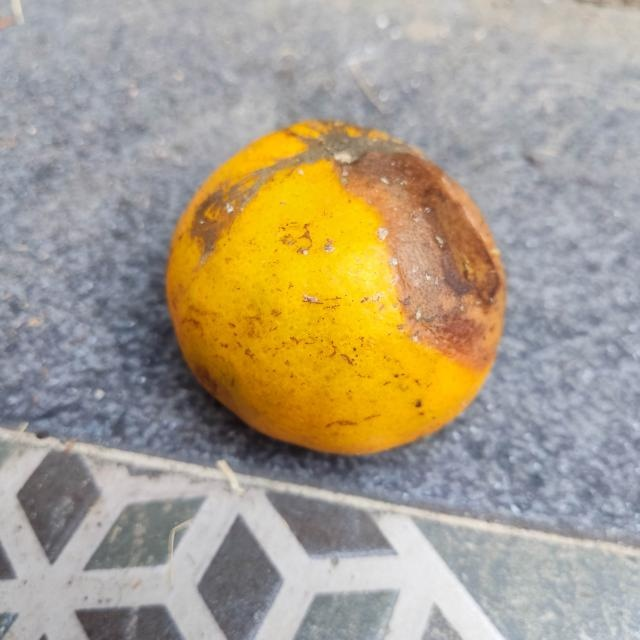agrume: (165, 116, 508, 461)
